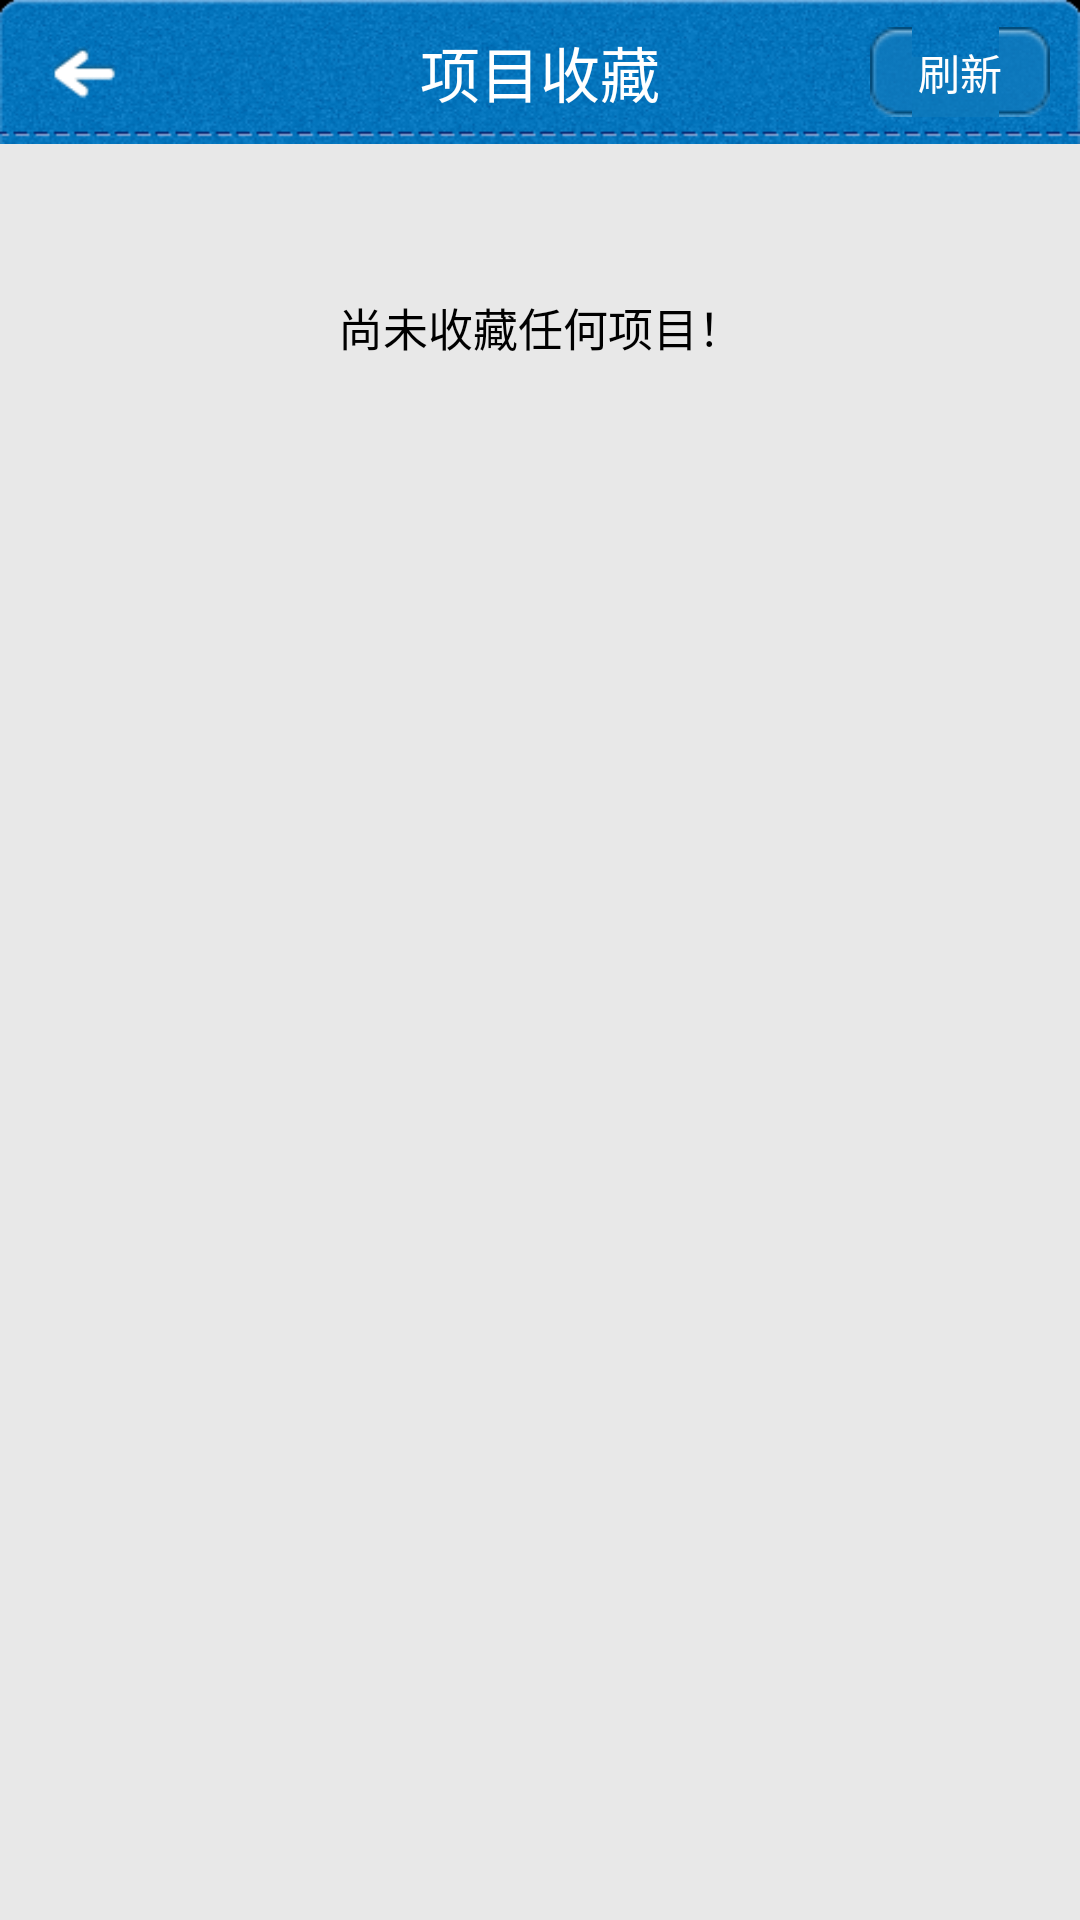

Locate icon controls on the screen. Image size 1080*1920, boxes as (x1, y1, x2, y2).
title back: (15, 48, 150, 137)
